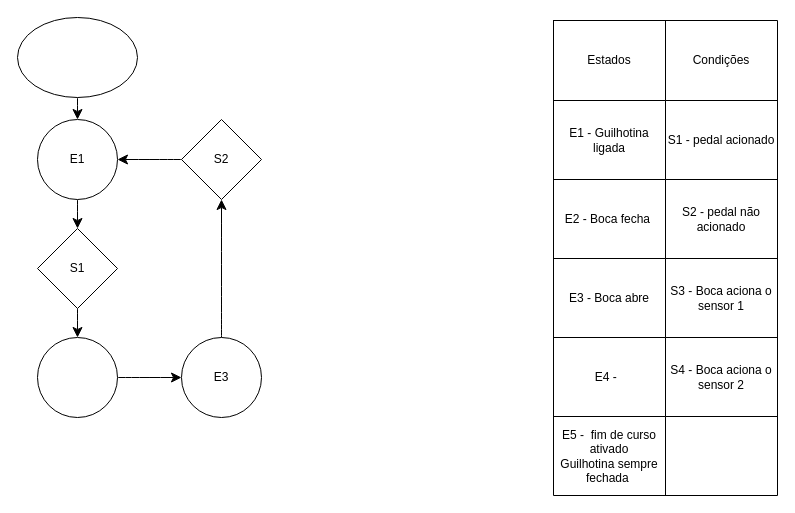
The diagram is 795 pixels wide and 513 high, and some of its shapes have lost their labels. Here are the shapes that lost their labels. From the top down, the centre of each, then its label:
At point (77, 57): "início".
At point (77, 377): "E2".
